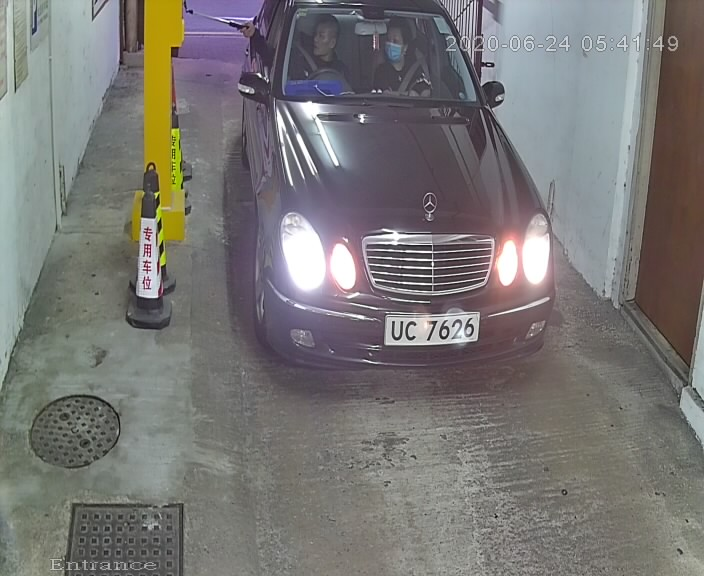privatecar: (228, 2, 556, 389)
